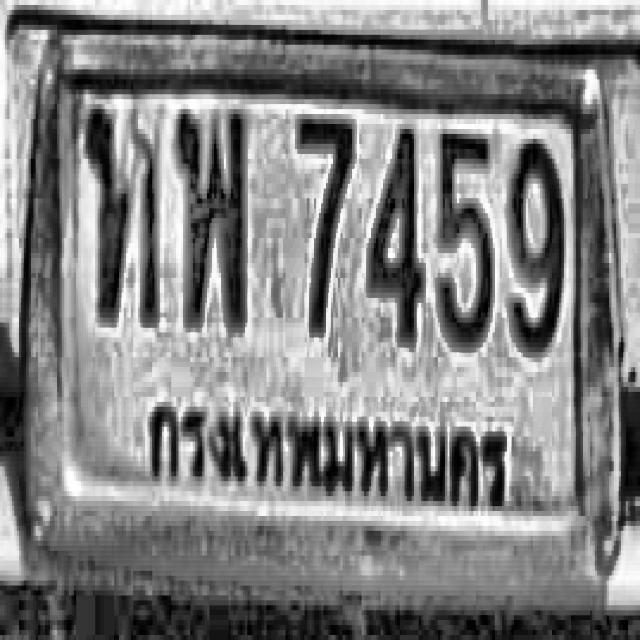license-plate: (23, 18, 626, 604)
